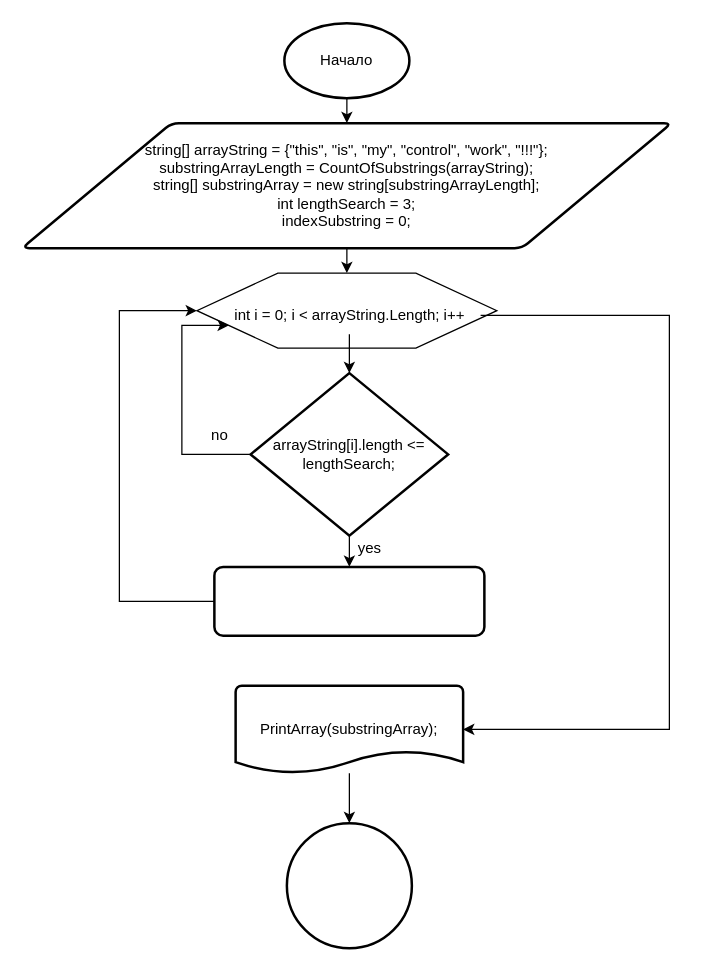
Some shapes in this 703 by 970 pixel diagram are drawn without their labels. The centre of each missing label's shape, as x and y in pixels:
"substringArray[indexSubstring] = arrayString[i]; indexSubstring++;" belongs at (348,600).
"Конец" belongs at (348,885).
